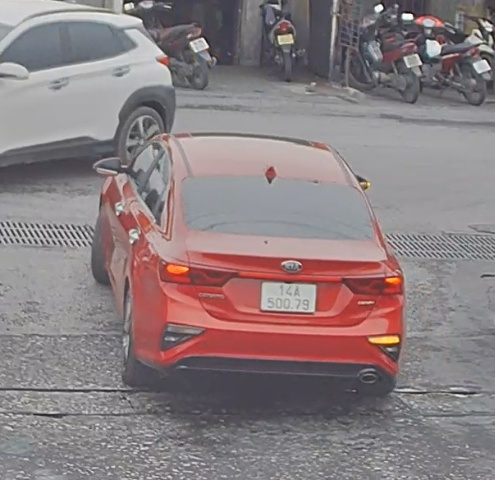vehicle plate: (259, 276, 316, 313)
